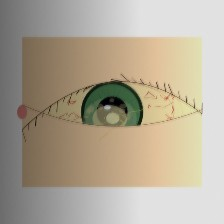corneal_ulcer: (82, 96, 138, 141)
